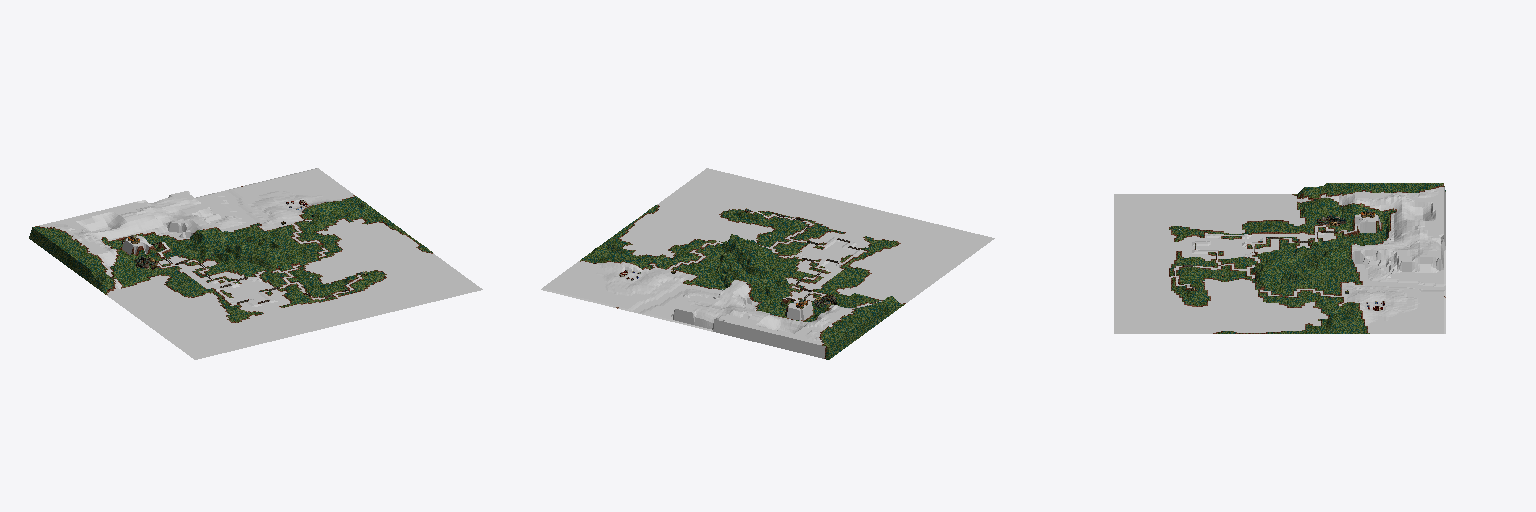
3 views of the same model, side by side, from view 1: azimuth 30°, elevation 25°; view 2: azimuth 150°, elevation 25°; view 3: azimuth 270°, elevation 25° (orthographic).
Visible parts, largest first — view 1: _Ground_; view 2: _Ground_; view 3: _Ground_.
Boxes of the visible parts, box(x1,y1,x2,y2) form: _Ground_: box(29, 168, 482, 359); _Ground_: box(541, 168, 994, 359); _Ground_: box(1114, 183, 1445, 333).
Size of the model in its own units: 65024 by 3488 by 65024.
Materials: 132 (85 with a texture image).